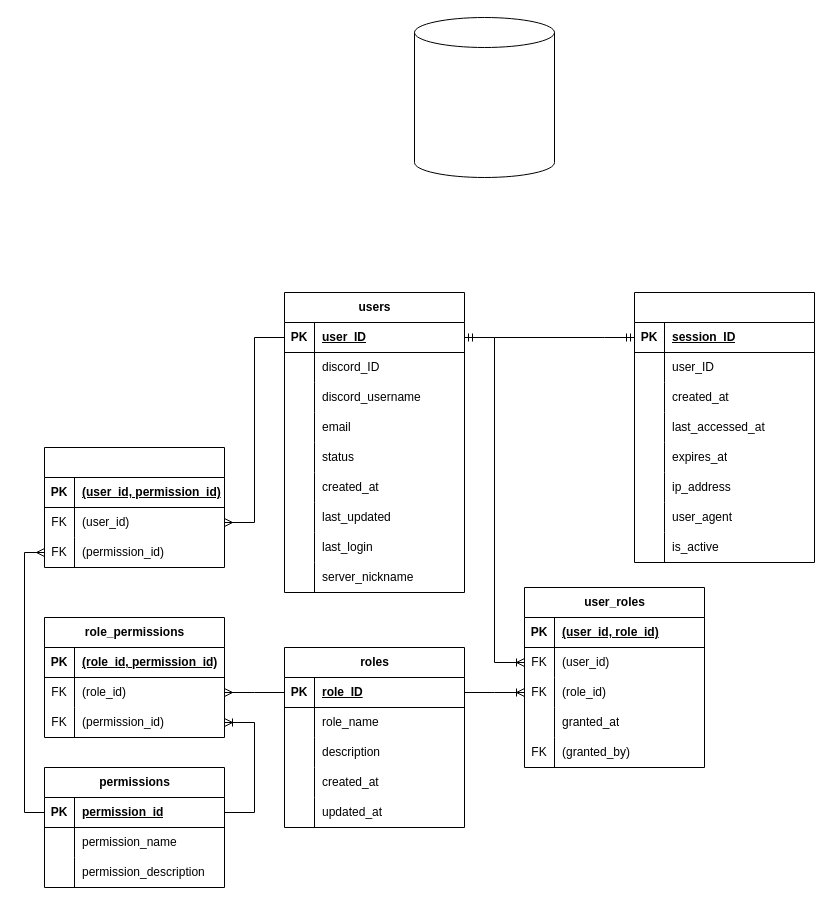
Image size: 832x905. Some labels were removed from this diagram. Here are the shapes that lost their labels. From the top down, the box of each, then its label:
(634, 292, 814, 562): sessions
(44, 446, 224, 568): user_permissions
